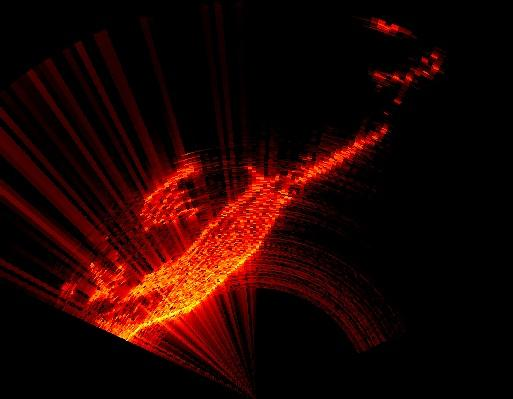shipwreck: (58, 133, 381, 340), (136, 163, 198, 226)
